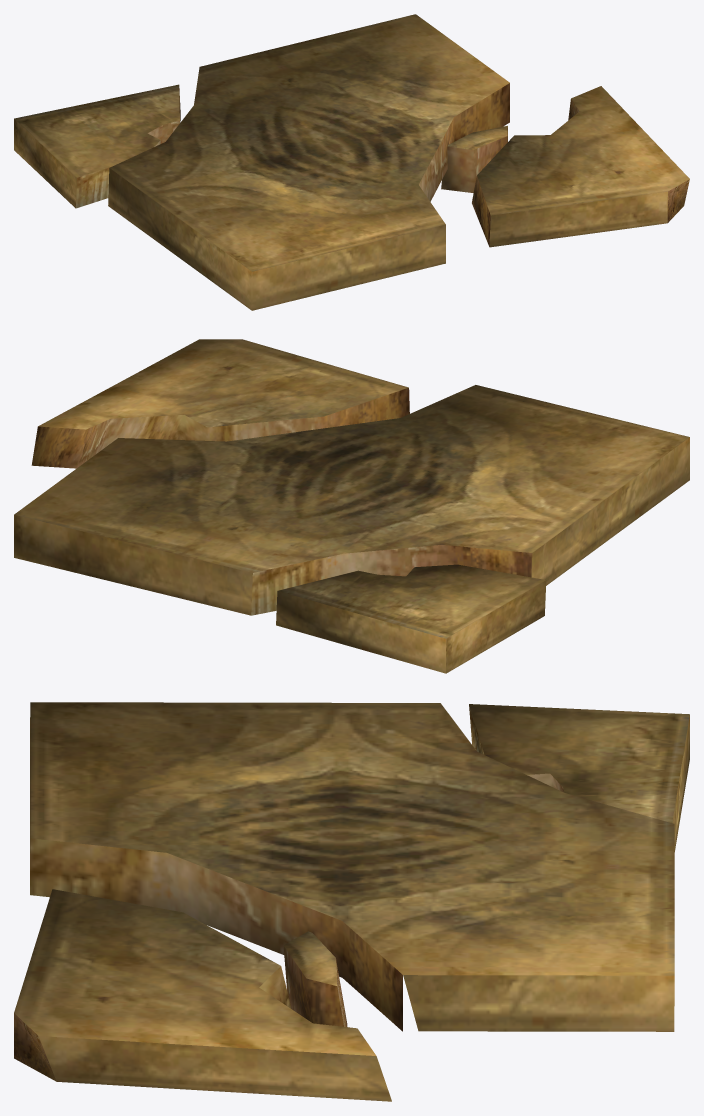
Rendered from S_Build_Desert071.FBX.
3 views of the same model, one above another, from view 1: azimuth 30°, elevation 25°; view 2: azimuth 150°, elevation 25°; view 3: azimuth 270°, elevation 25° (orthographic). The views are drawn at different scales.
Visible parts, largest first — view 1: S_Build_Desert071; view 2: S_Build_Desert071; view 3: S_Build_Desert071.
Part boxes in pixels (left/top/right/bottom): S_Build_Desert071: left=14, top=14, right=689, bottom=310; S_Build_Desert071: left=14, top=339, right=689, bottom=673; S_Build_Desert071: left=14, top=702, right=689, bottom=1101.
Size of the model in its own units: 312 by 258 by 39.73.
